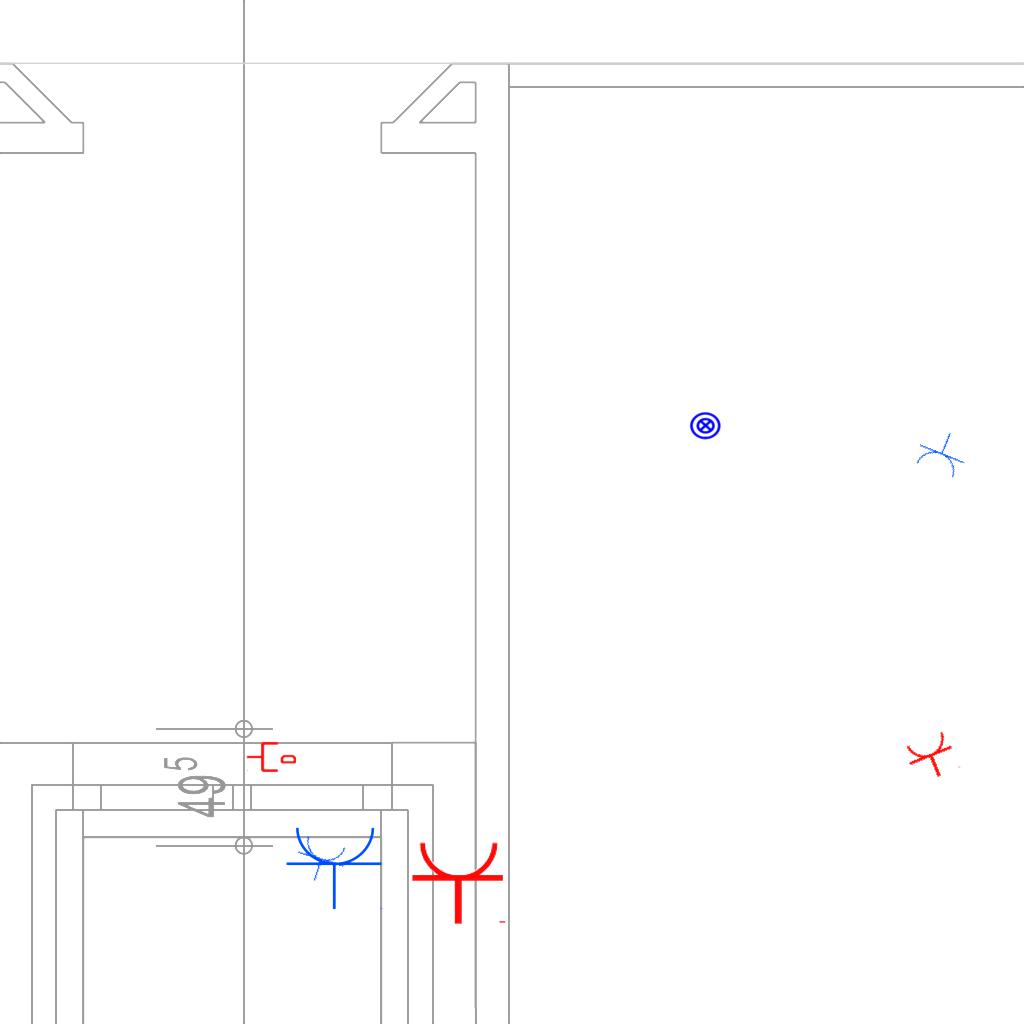Datenanschluss_einfach: (246, 740, 296, 774)
Schukosteckdose_einfach: (410, 839, 510, 926), (285, 823, 385, 910), (901, 727, 964, 787), (910, 423, 974, 482), (290, 832, 352, 889)
Taster_beleuchtet: (689, 409, 722, 442)
